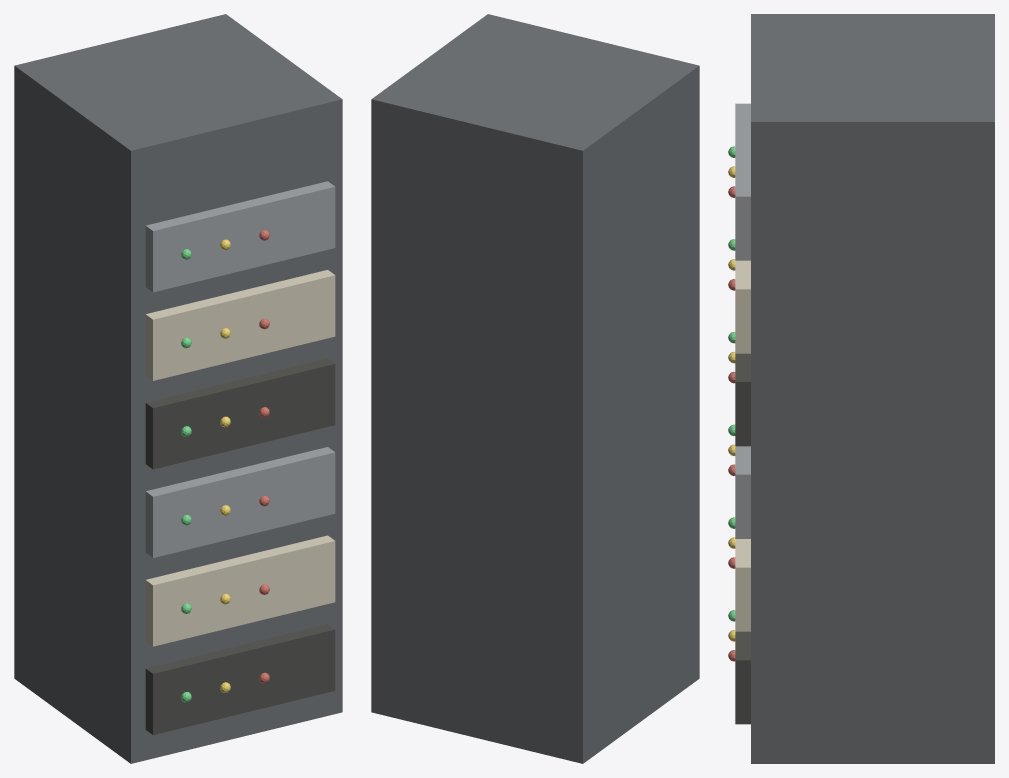
The model's file is equipment_rack_02.glb.
The picture shows the model from 3 angles, left to right: view 1: azimuth 30°, elevation 25°; view 2: azimuth 150°, elevation 25°; view 3: azimuth 270°, elevation 25°; orthographic projection. The views are drawn at different scales.
Parts seen in each view (by area): view 1: rack, unit1, unit0, unit4, unit5, unit3, unit2; view 2: rack; view 3: rack, unit5, unit0, unit3, unit4, unit1, unit2.
Boxes of the visible parts, x1,y1,x2,y2 form: rack: [14, 14, 342, 763]; unit1: [145, 535, 335, 646]; unit0: [145, 624, 335, 735]; unit4: [145, 270, 335, 380]; unit5: [145, 181, 335, 292]; unit3: [145, 358, 335, 469]; unit2: [145, 447, 335, 557]; rack: [371, 14, 699, 763]; rack: [751, 14, 994, 763]; unit5: [735, 103, 750, 260]; unit0: [735, 631, 750, 724]; unit3: [735, 353, 750, 446]; unit4: [735, 260, 750, 353]; unit1: [735, 539, 750, 631]; unit2: [735, 446, 750, 538].
Size of the model in its own units: 0.65 by 1.8 by 0.678.
